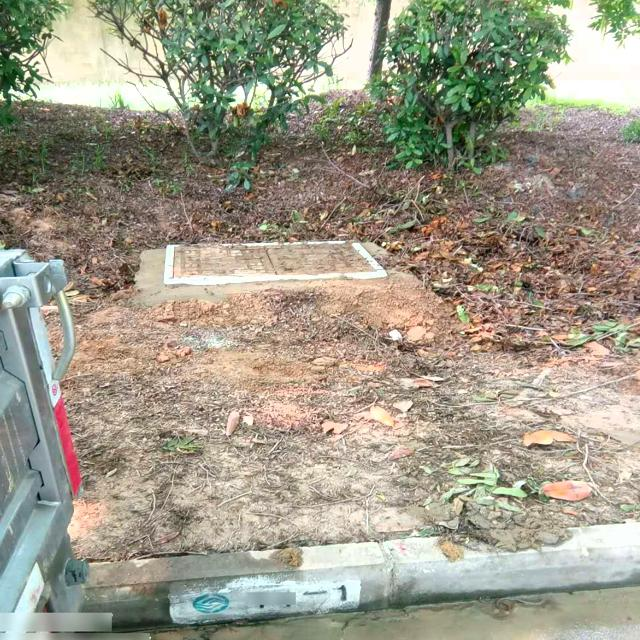good: (164, 239, 389, 285)
